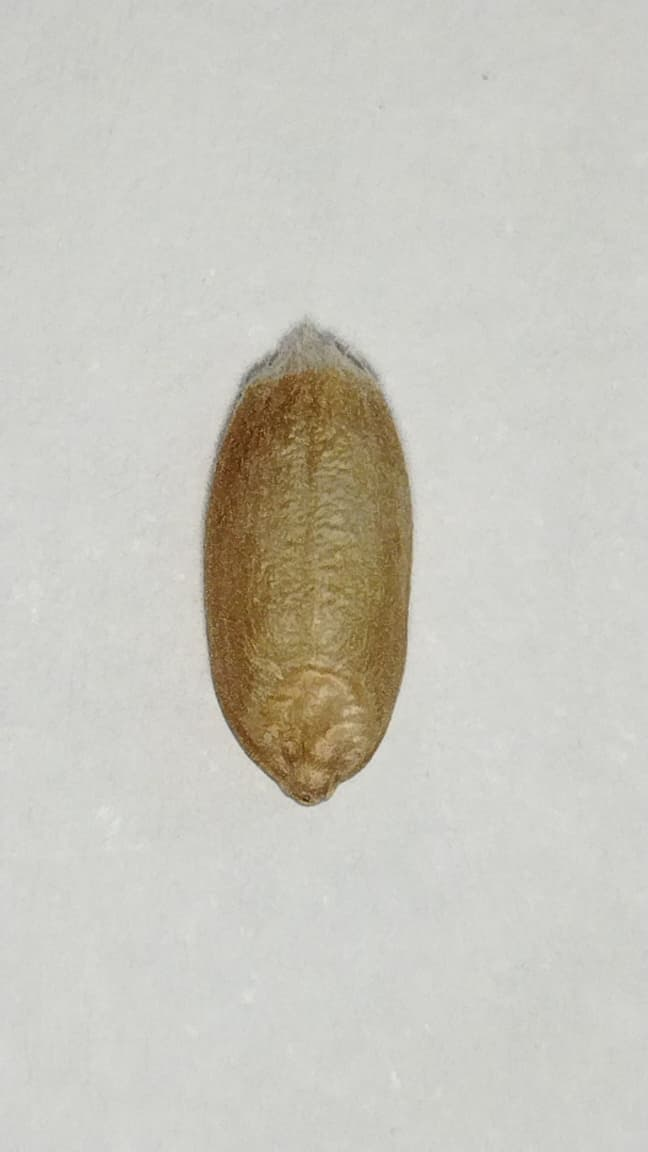healthy: (206, 326, 411, 802)
